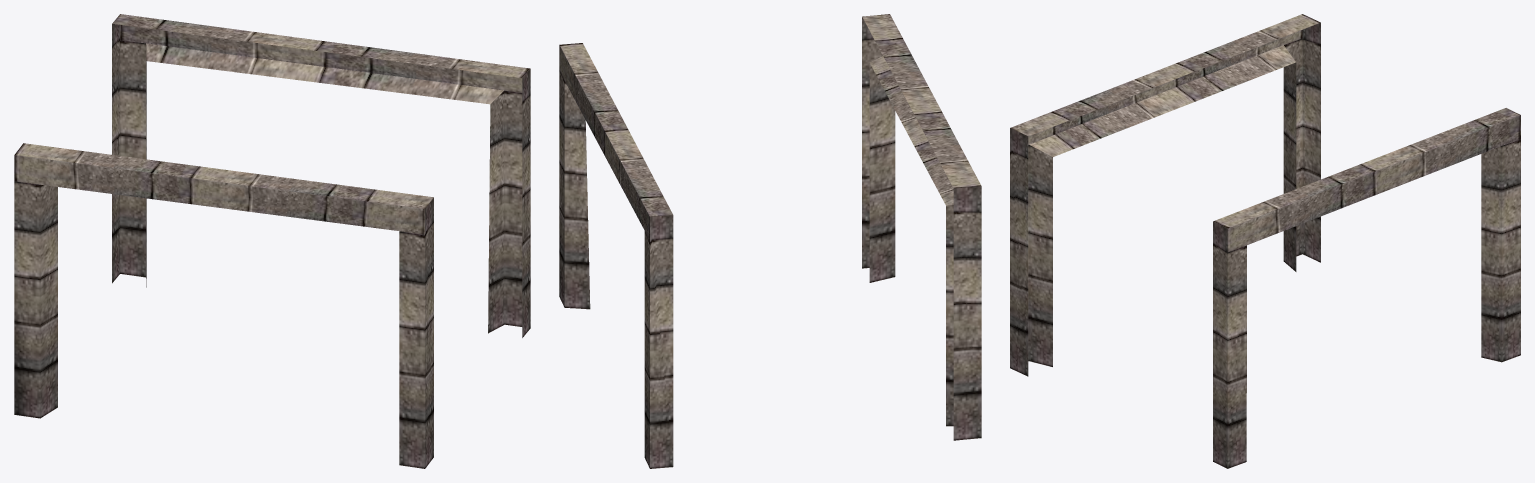
3 renders of one model, left to right at view 1: azimuth 30°, elevation 25°; view 2: azimuth 150°, elevation 25°; view 3: azimuth 270°, elevation 25°, orthographic. The views are drawn at different scales.
Visible parts, largest first — view 1: Object03; view 2: Object03; view 3: Object03.
Boxes of the visible parts, <box> form: Object03: <box>14,14,530,468</box>; Object03: <box>559,14,981,468</box>; Object03: <box>1010,14,1520,468</box>.
Size of the model in its own units: 153 by 80.08 by 154.
